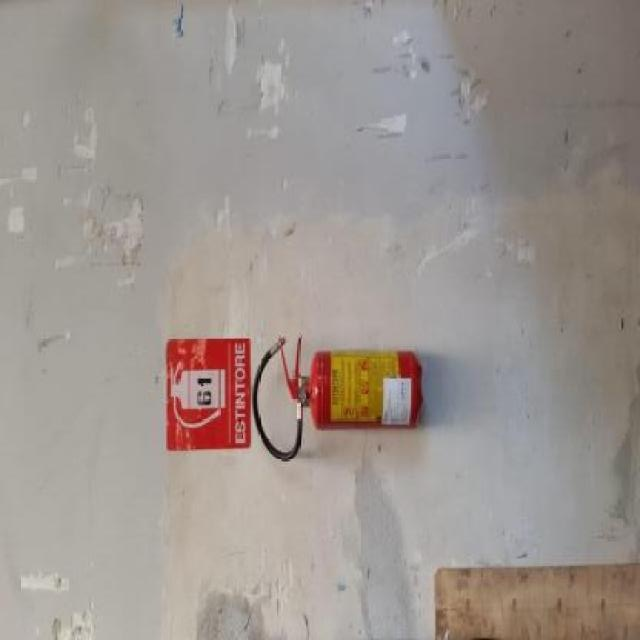fire extinguisher: (252, 335, 423, 460)
